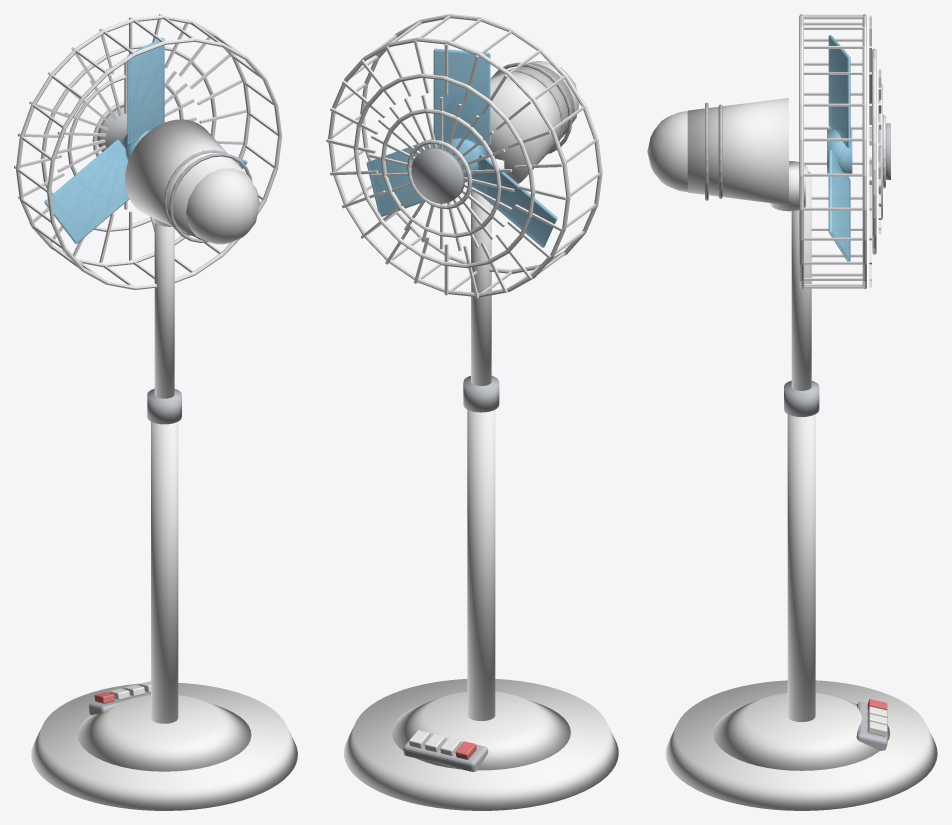
File: kipas.glb
3 views of the same model, side by side, from view 1: azimuth 30°, elevation 25°; view 2: azimuth 150°, elevation 25°; view 3: azimuth 270°, elevation 25° (orthographic). The views are drawn at different scales.
Parts seen in each view (by area): view 1: EX_hq:kipas-plastik, EX_unri:kipas-kepala, EX_unri:kipas-baling, EX_hq:kipas-krom, EX_hq:kipas-abu; view 2: EX_hq:kipas-plastik, EX_unri:kipas-kepala, EX_unri:kipas-baling, EX_hq:kipas-abu, EX_hq:kipas-krom; view 3: EX_hq:kipas-plastik, EX_unri:kipas-kepala, EX_unri:kipas-baling, EX_hq:kipas-krom, EX_hq:kipas-abu.
Boxes of the visible parts, left/top/right/bottom form: EX_hq:kipas-plastik: left=31, top=217, right=297, bottom=810; EX_unri:kipas-kepala: left=14, top=14, right=282, bottom=289; EX_unri:kipas-baling: left=44, top=37, right=247, bottom=243; EX_hq:kipas-krom: left=154, top=223, right=174, bottom=398; EX_hq:kipas-abu: left=89, top=106, right=252, bottom=715; EX_hq:kipas-plastik: left=344, top=157, right=618, bottom=810; EX_unri:kipas-kepala: left=326, top=14, right=602, bottom=298; EX_unri:kipas-baling: left=366, top=48, right=557, bottom=247; EX_hq:kipas-abu: left=403, top=62, right=572, bottom=771; EX_hq:kipas-krom: left=471, top=190, right=491, bottom=385; EX_hq:kipas-plastik: left=665, top=161, right=937, bottom=810; EX_unri:kipas-kepala: left=647, top=14, right=885, bottom=289; EX_unri:kipas-baling: left=827, top=35, right=852, bottom=261; EX_hq:kipas-krom: left=791, top=171, right=811, bottom=390; EX_hq:kipas-abu: left=705, top=102, right=890, bottom=750.
Size of the model in its own units: 0.437 by 1.27 by 0.459.
